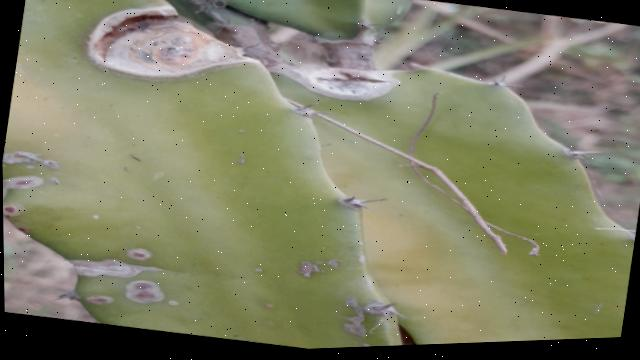stemcanker: (2, 146, 55, 174), (118, 274, 165, 305), (2, 171, 49, 195), (286, 258, 324, 281), (120, 244, 157, 267), (1, 201, 34, 222), (87, 291, 114, 308)
